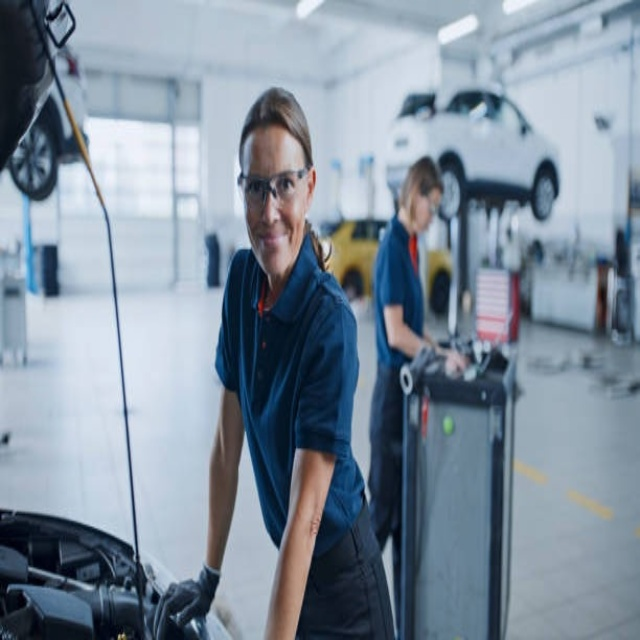Gafas: (237, 160, 310, 201)
Guantes: (149, 561, 221, 639)
Sin_mascara: (249, 223, 291, 266)
